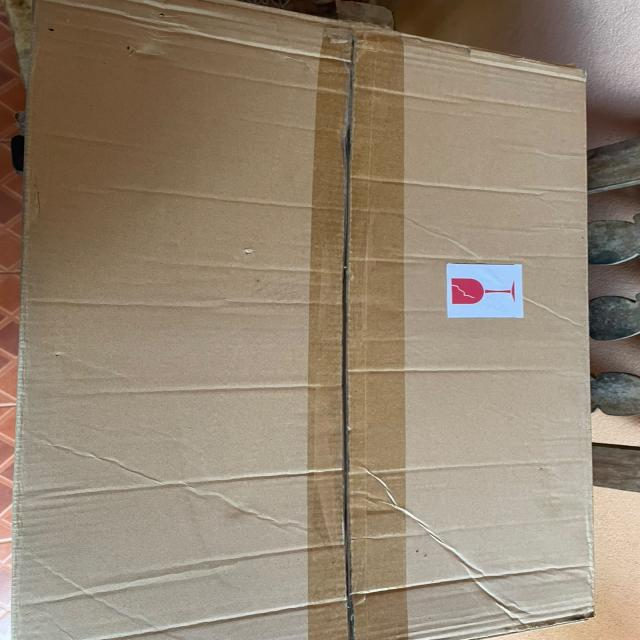carton_box: (7, 0, 620, 640)
fragile_label: (435, 253, 549, 324)
